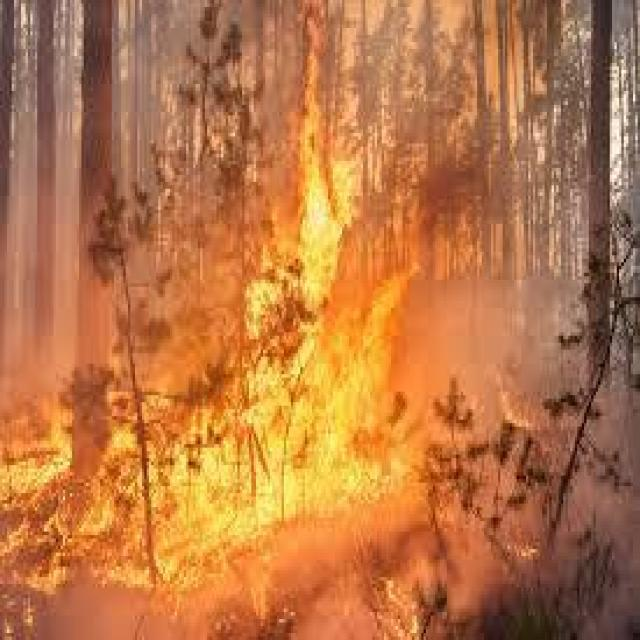Fire: (0, 4, 426, 588)
Smoke: (420, 8, 635, 619)
